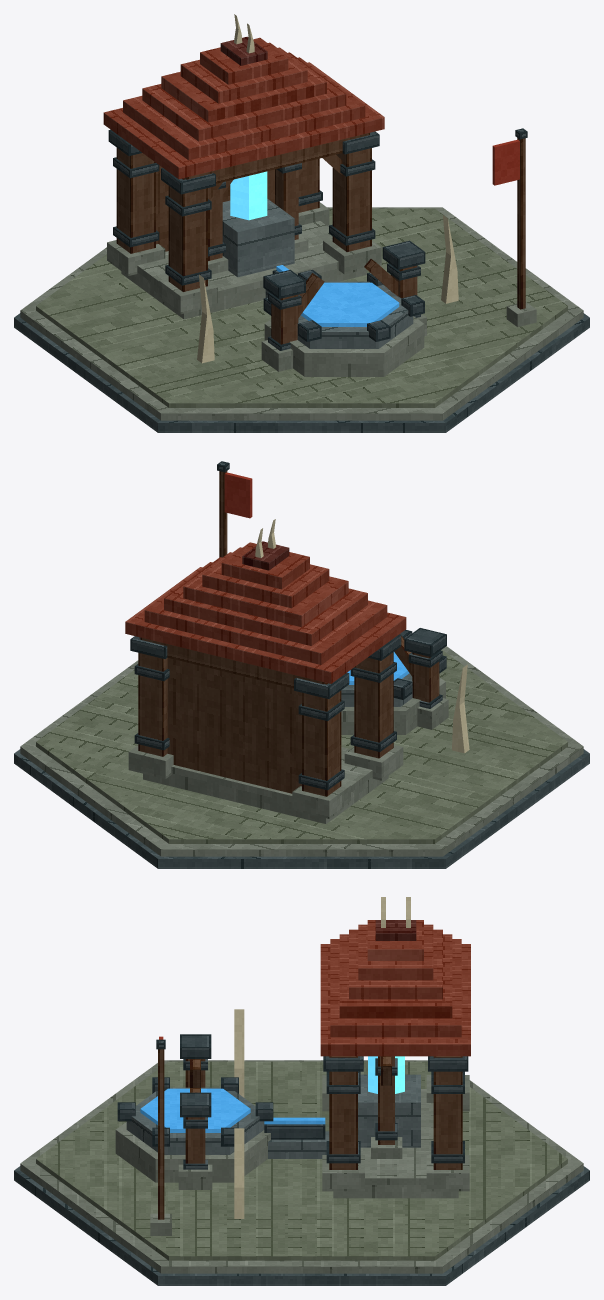
Rendered from orc_arcane_shrine_hex_v1.glb.
3 views of the same model, one above another, from view 1: azimuth 30°, elevation 25°; view 2: azimuth 150°, elevation 25°; view 3: azimuth 270°, elevation 25° (orthographic).
Parts seen in each view (by area): view 1: Orc_Arcane_Shrine_Hex_V1_Foundation, Orc_Arcane_Shrine_Hex_V1_Structure, Orc_Arcane_Shrine_Hex_V1_Roofs, Orc_Arcane_Shrine_Hex_V1_Focus, Orc_Arcane_Shrine_Hex_V1_Details, Orc_Arcane_Shrine_Hex_V1_Hall, Orc_Arcane_Shrine_Hex_V1_Faction; view 2: Orc_Arcane_Shrine_Hex_V1_Foundation, Orc_Arcane_Shrine_Hex_V1_Roofs, Orc_Arcane_Shrine_Hex_V1_Structure, Orc_Arcane_Shrine_Hex_V1_Hall, Orc_Arcane_Shrine_Hex_V1_Details, Orc_Arcane_Shrine_Hex_V1_Focus, Orc_Arcane_Shrine_Hex_V1_Faction; view 3: Orc_Arcane_Shrine_Hex_V1_Foundation, Orc_Arcane_Shrine_Hex_V1_Roofs, Orc_Arcane_Shrine_Hex_V1_Structure, Orc_Arcane_Shrine_Hex_V1_Focus, Orc_Arcane_Shrine_Hex_V1_Details, Orc_Arcane_Shrine_Hex_V1_Hall, Orc_Arcane_Shrine_Hex_V1_Courtyard.
Part boxes in pixels (bbox=[...]): Orc_Arcane_Shrine_Hex_V1_Foundation: bbox=[14, 207, 589, 432]; Orc_Arcane_Shrine_Hex_V1_Structure: bbox=[107, 129, 426, 371]; Orc_Arcane_Shrine_Hex_V1_Roofs: bbox=[103, 36, 384, 179]; Orc_Arcane_Shrine_Hex_V1_Focus: bbox=[222, 171, 424, 376]; Orc_Arcane_Shrine_Hex_V1_Details: bbox=[113, 14, 536, 363]; Orc_Arcane_Shrine_Hex_V1_Hall: bbox=[121, 165, 366, 319]; Orc_Arcane_Shrine_Hex_V1_Faction: bbox=[492, 139, 519, 185]; Orc_Arcane_Shrine_Hex_V1_Foundation: bbox=[14, 646, 589, 868]; Orc_Arcane_Shrine_Hex_V1_Roofs: bbox=[125, 541, 406, 683]; Orc_Arcane_Shrine_Hex_V1_Structure: bbox=[128, 628, 448, 818]; Orc_Arcane_Shrine_Hex_V1_Hall: bbox=[143, 658, 388, 823]; Orc_Arcane_Shrine_Hex_V1_Details: bbox=[134, 461, 469, 790]; Orc_Arcane_Shrine_Hex_V1_Focus: bbox=[341, 629, 446, 734]; Orc_Arcane_Shrine_Hex_V1_Faction: bbox=[224, 472, 252, 518]; Orc_Arcane_Shrine_Hex_V1_Foundation: bbox=[14, 1060, 589, 1285]; Orc_Arcane_Shrine_Hex_V1_Roofs: bbox=[320, 920, 470, 1056]; Orc_Arcane_Shrine_Hex_V1_Structure: bbox=[178, 1034, 469, 1191]; Orc_Arcane_Shrine_Hex_V1_Focus: bbox=[115, 1056, 420, 1182]; Orc_Arcane_Shrine_Hex_V1_Details: bbox=[150, 897, 464, 1235]; Orc_Arcane_Shrine_Hex_V1_Hall: bbox=[333, 1089, 458, 1198]; Orc_Arcane_Shrine_Hex_V1_Courtyard: bbox=[268, 1131, 329, 1158].
Bounding box in the file's own units: 1.59 × 0.976 × 1.84.
Materials: 1 (1 with a texture image).
